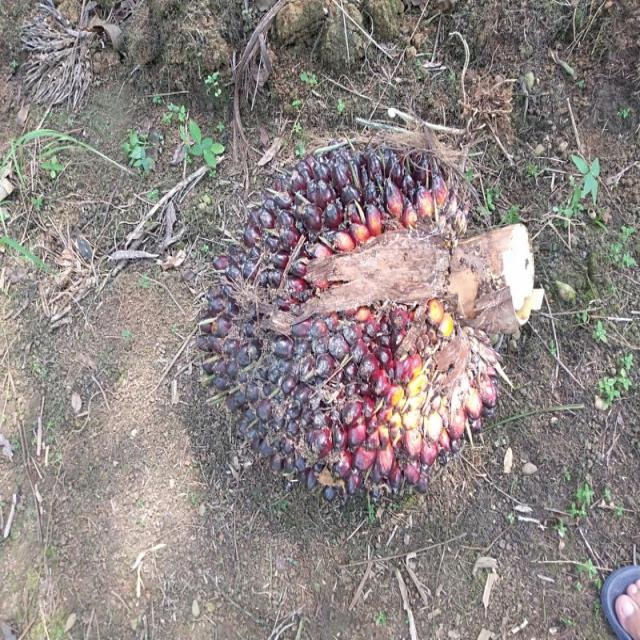fraksi 00: (190, 147, 494, 494)
